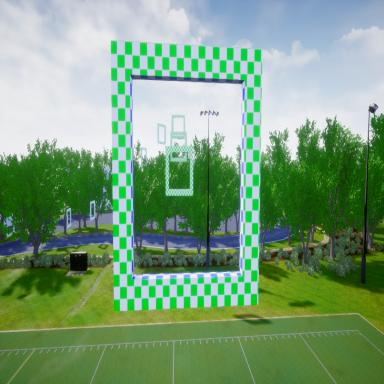gate: (110, 36, 262, 312), (165, 144, 194, 198), (170, 131, 186, 162), (172, 114, 185, 140)
